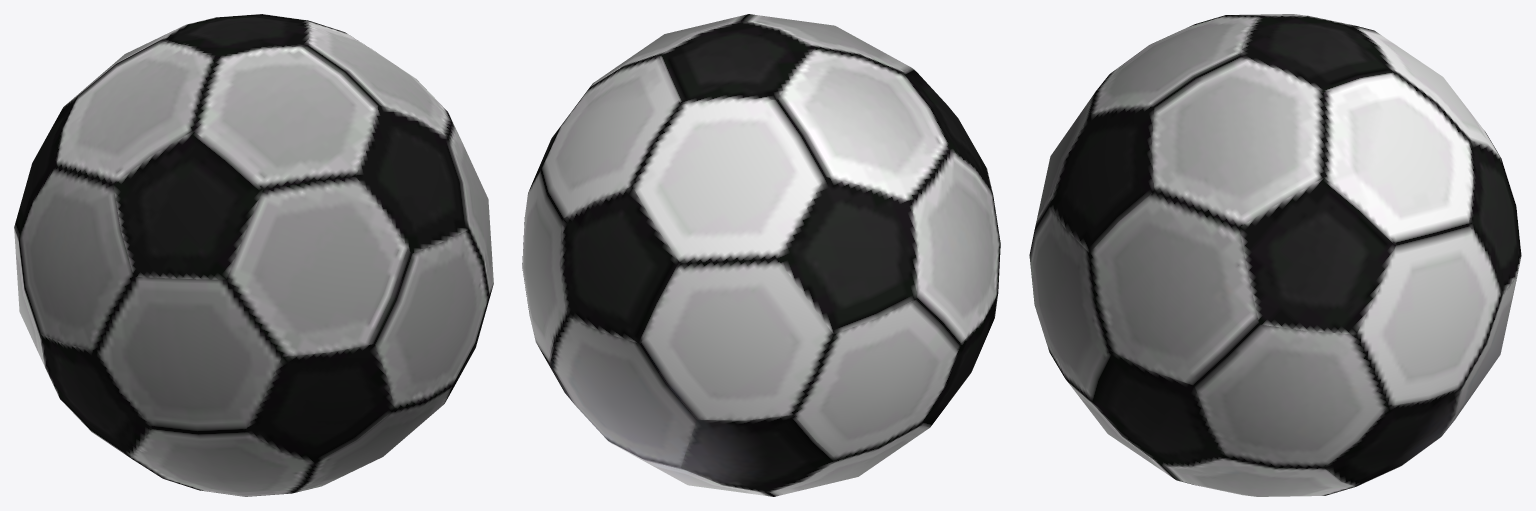
Rendered from SoccerBall.fbx.
3 views of the same model, side by side, from view 1: azimuth 30°, elevation 25°; view 2: azimuth 150°, elevation 25°; view 3: azimuth 270°, elevation 25° (orthographic).
Parts seen in each view (by area): view 1: SoccerBall; view 2: SoccerBall; view 3: SoccerBall.
Boxes of the visible parts, left/top/right/bottom form: SoccerBall: left=14, top=14, right=493, bottom=496; SoccerBall: left=522, top=14, right=1000, bottom=496; SoccerBall: left=1029, top=14, right=1521, bottom=496.
Size of the model in its own units: 39.37 by 39.66 by 39.91.
